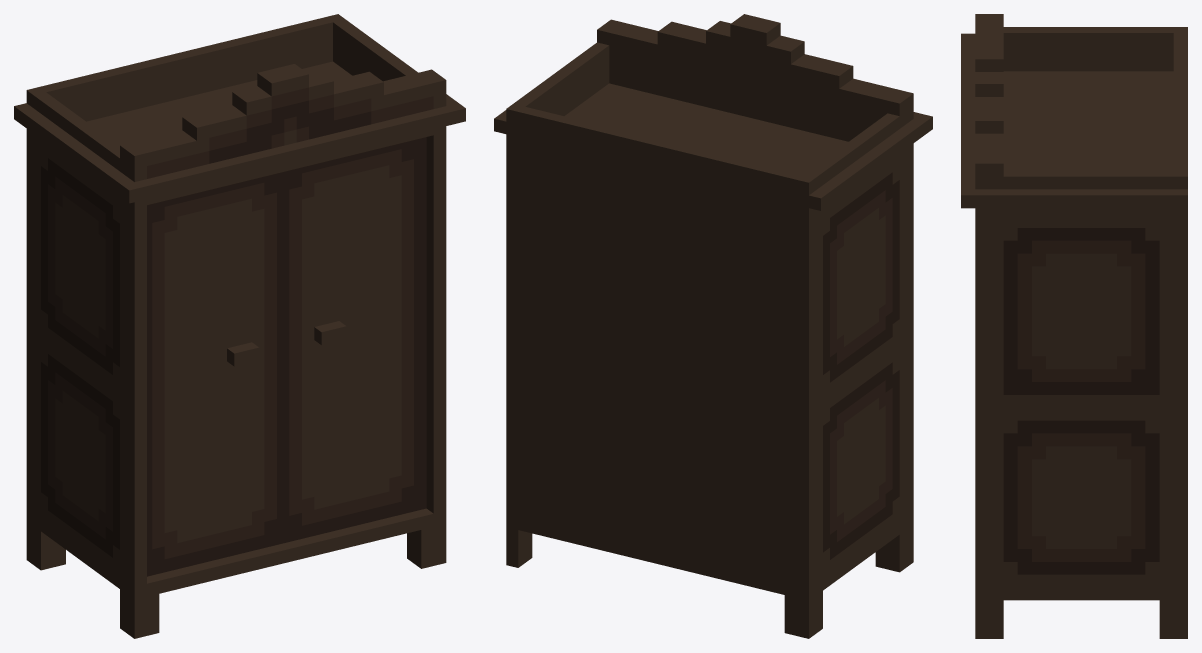
The model's file is wardrobe.obj.
The picture shows the model from 3 angles, left to right: view 1: azimuth 30°, elevation 25°; view 2: azimuth 150°, elevation 25°; view 3: azimuth 270°, elevation 25°; orthographic projection. The views are drawn at different scales.
Visible parts, largest first — view 1: wardrobe; view 2: wardrobe; view 3: wardrobe.
Boxes of the visible parts, x1,y1,x2,y2 form: wardrobe: [14, 14, 465, 638]; wardrobe: [494, 14, 932, 638]; wardrobe: [961, 14, 1187, 638].
Size of the model in its own units: 27 by 40 by 16.
